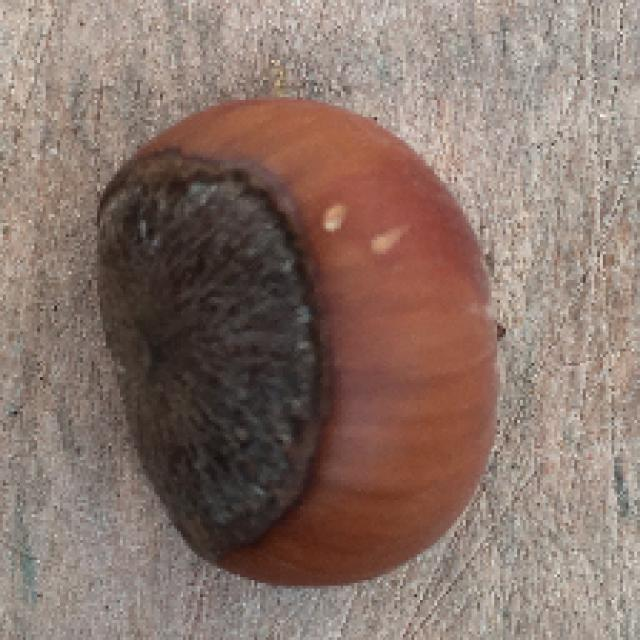DamagedHazelnut: (94, 101, 507, 587)
